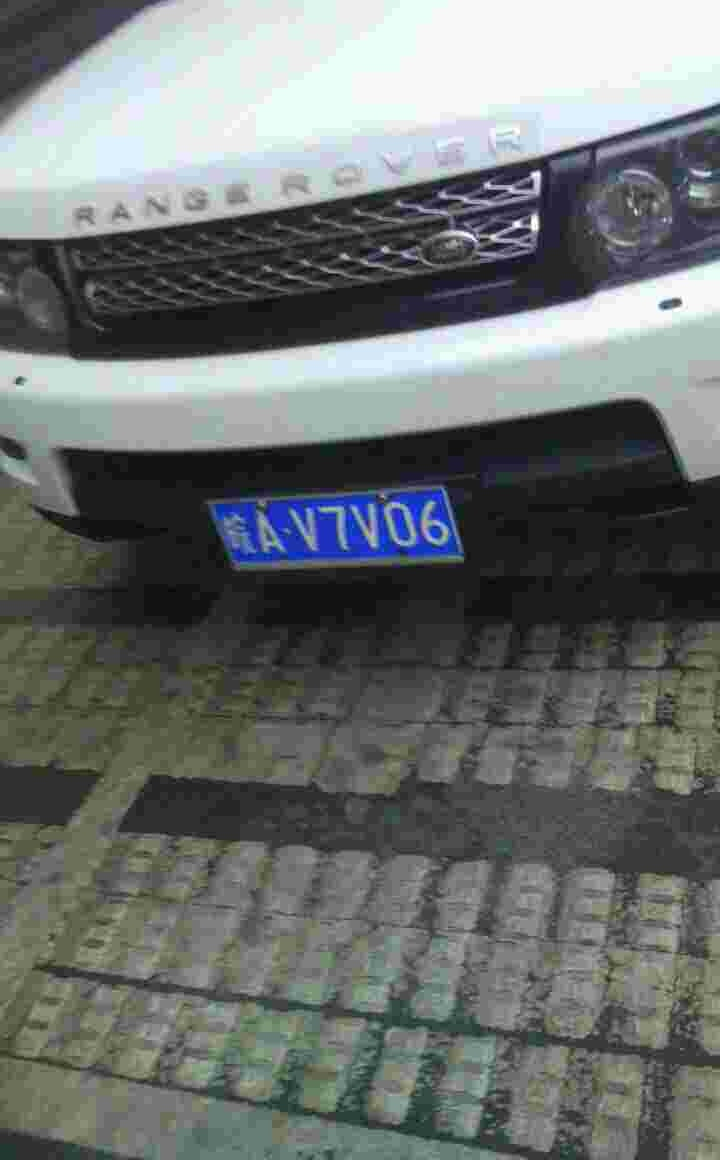plate: (203, 484, 471, 571)
